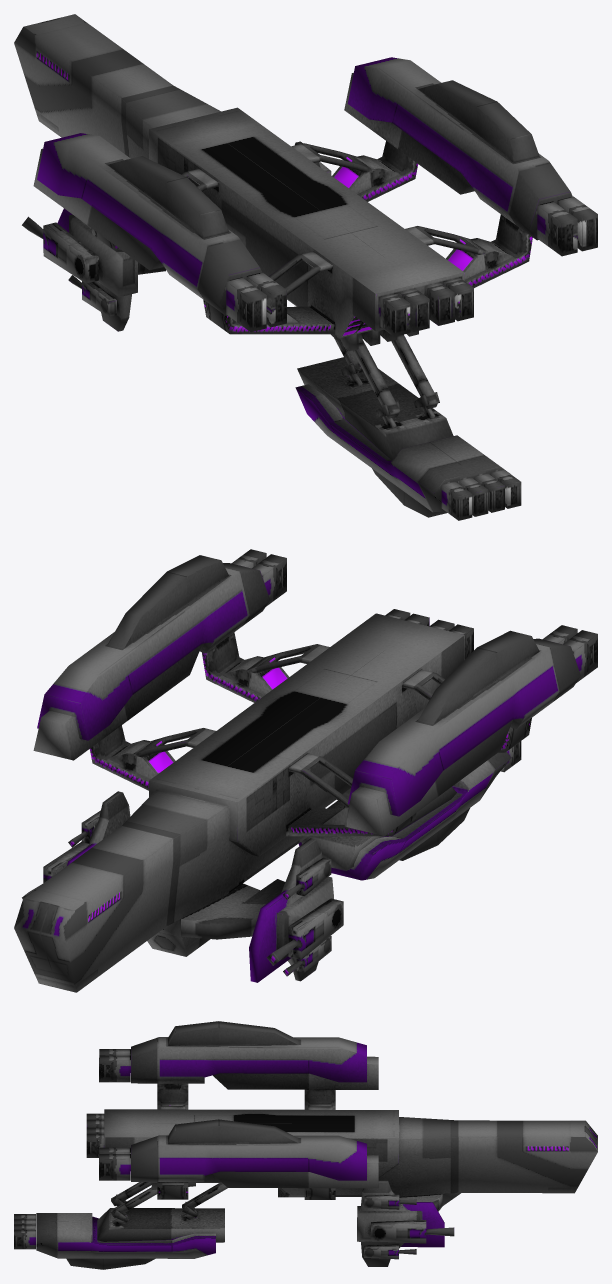
The model's file is purple_spaceship_02.fbx.
3 renders of one model, top to bottom at view 1: azimuth 30°, elevation 25°; view 2: azimuth 150°, elevation 25°; view 3: azimuth 270°, elevation 25°, orthographic. The views are drawn at different scales.
Parts seen in each view (by area): view 1: PFlagShipMod; view 2: PFlagShipMod; view 3: PFlagShipMod.
Boxes of the visible parts, x1,y1,x2,y2 form: PFlagShipMod: (14, 14, 597, 520); PFlagShipMod: (14, 549, 597, 992); PFlagShipMod: (14, 1021, 597, 1269).
Bounding box in the file's own units: 2754 × 5929 × 2139.
Materials: 1 (1 with a texture image).
